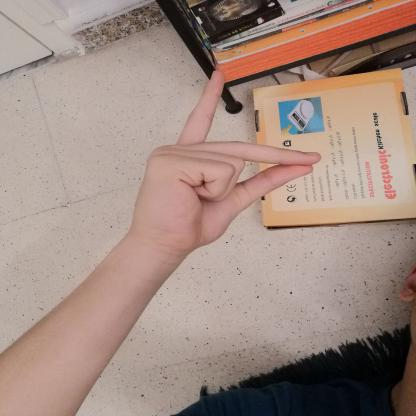TAA: (119, 60, 331, 259)
